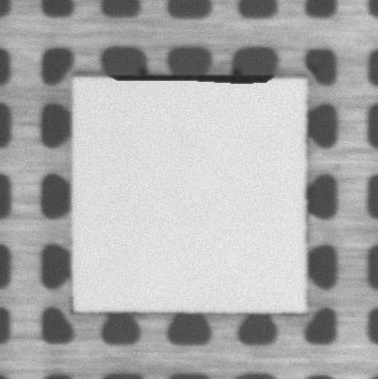DIE_BROKEN: (115, 69, 277, 85)
